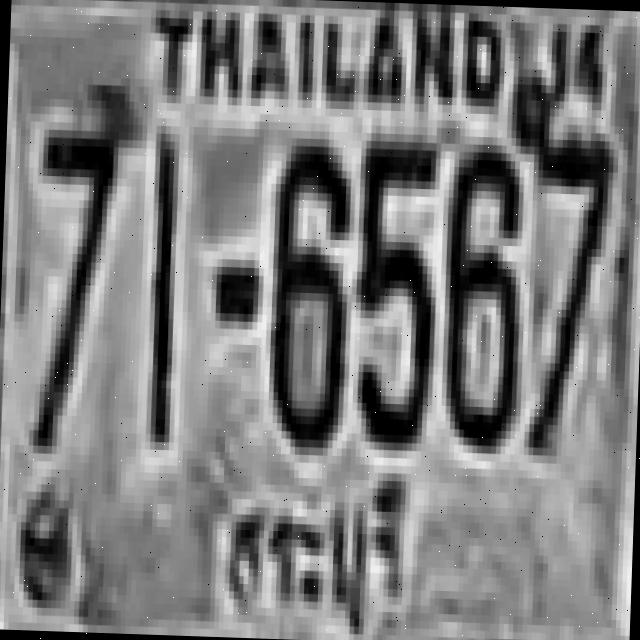1: (140, 133, 174, 442)
5: (351, 132, 436, 444)
6: (262, 133, 347, 444), (435, 136, 520, 447)
7: (26, 78, 132, 444), (524, 123, 610, 449)
SaraBuri: (215, 468, 418, 638)
